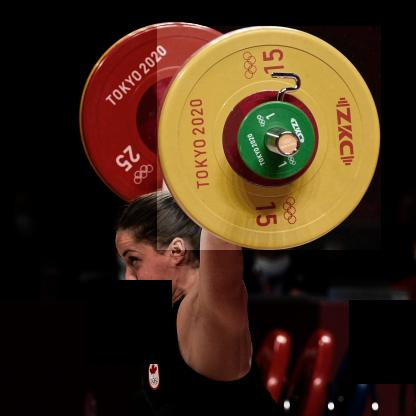barbell: (158, 28, 382, 252)
